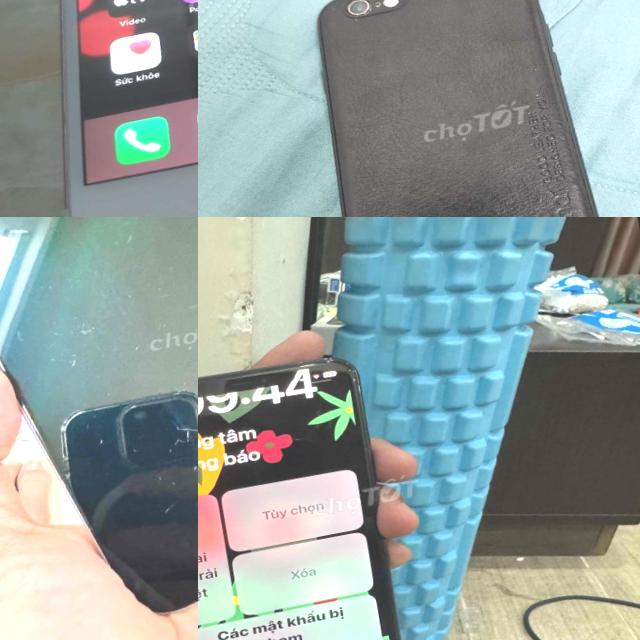gen_11: (198, 334, 427, 640)
gen_15: (0, 217, 198, 640)
gen_6: (284, 0, 640, 217), (0, 0, 198, 217)
